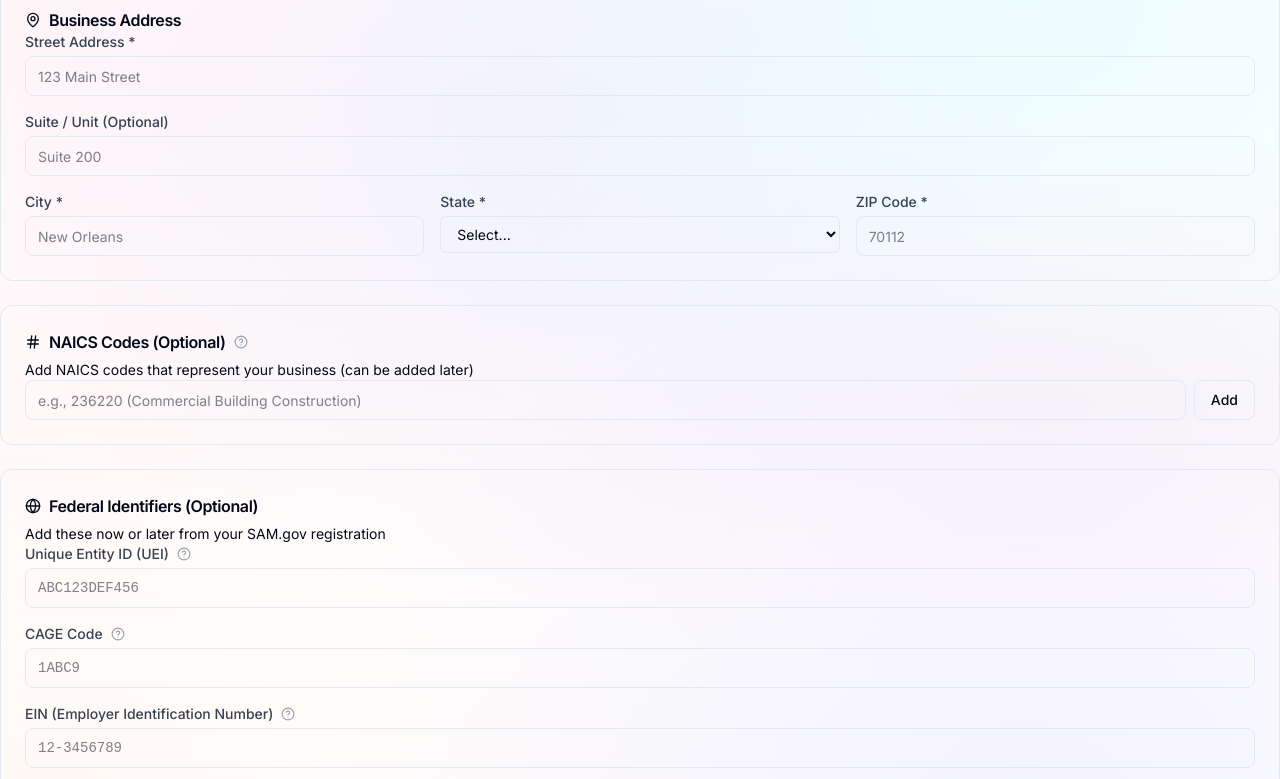
Scenario: CompanyProfileStep › adds and removes NAICS codes
(page scrolled)
Type "236220" into the field with placeholder "e.g., 236220 (Commercial Building Construction)". click: [605, 400]
box: [25,380,1186,420]
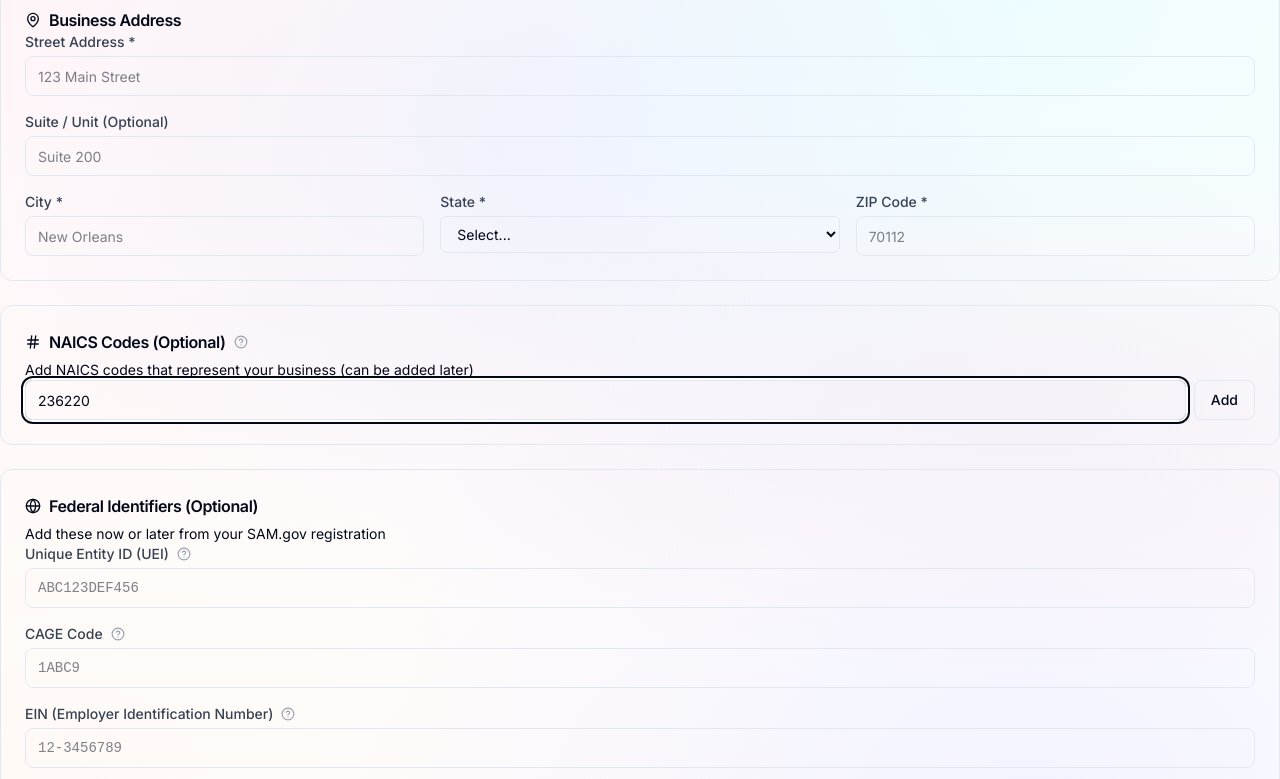
Click the button "Add". click: [1224, 400]
box: [1194,380,1255,420]
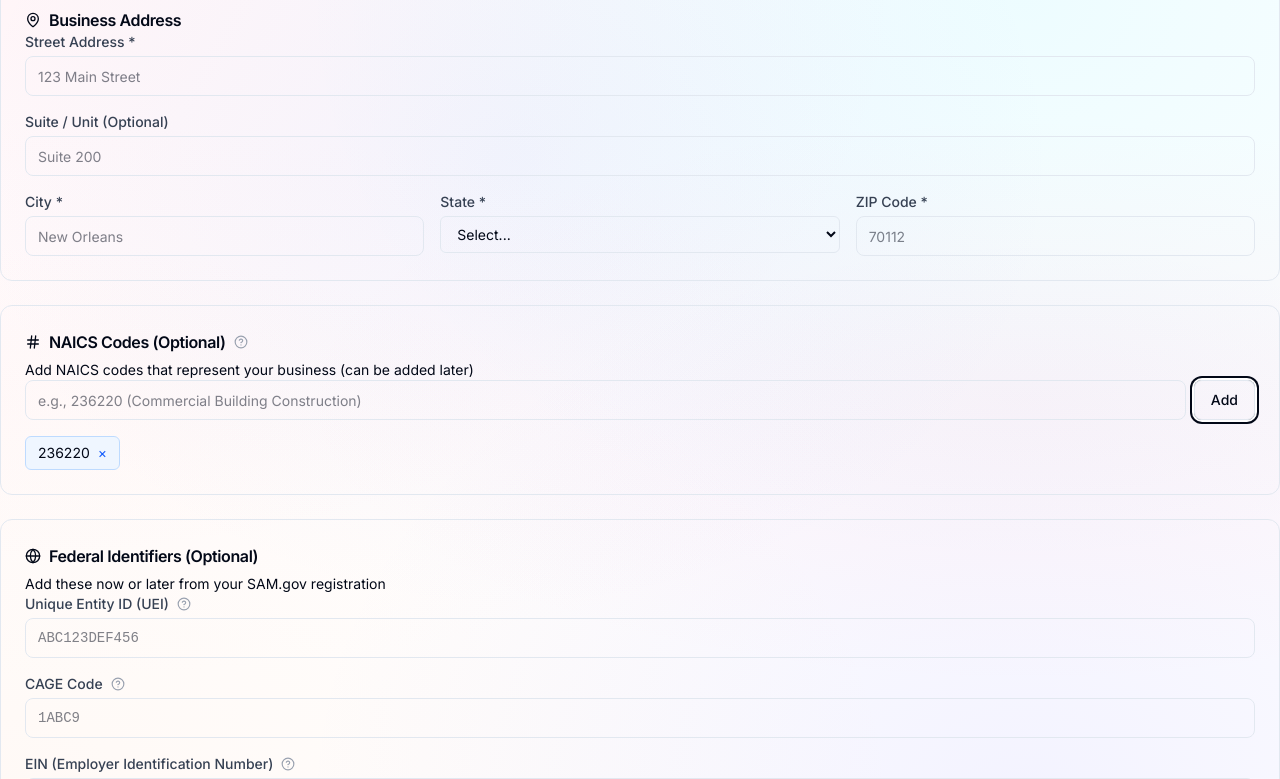
Check: the text "236220" is shown, box [38,443,90,463]
